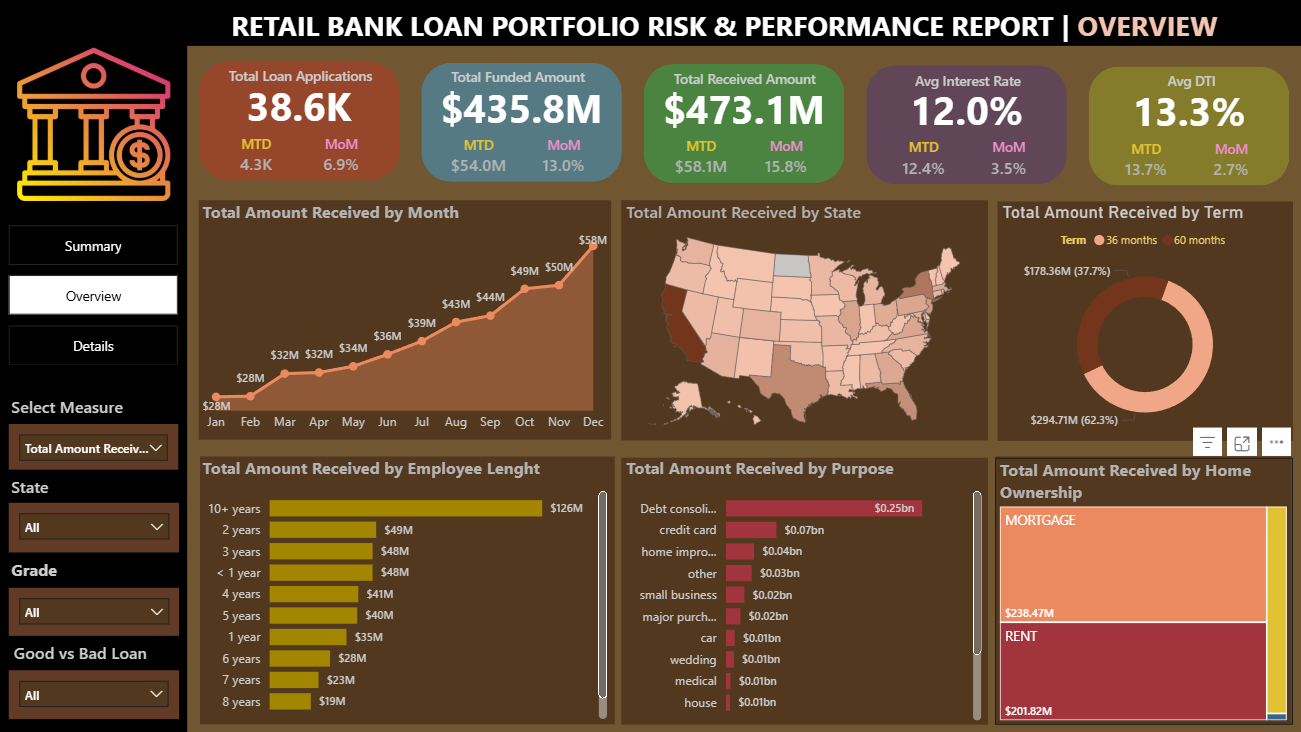

What the dashboard file says about the page in this screenshot:
{"tool":"powerbi","page":{"name":"Overview","canvas":[1280,720],"ordinal":1},"visuals":[{"type":"shape","box":[195.1,61.4,197,117],"z":0,"group":"g1"},{"type":"shape","box":[413.5,62.6,197,117],"z":0,"group":"g2"},{"type":"shape","box":[631.9,63.8,197,117],"z":0,"group":"g3"},{"type":"shape","box":[850.3,65,197,117],"z":0,"group":"g4"},{"type":"shape","box":[1068.7,66.2,197,117],"z":0,"group":"g5"},{"type":"shape","box":[978.6,198.6,290,235],"z":0},{"type":"card","fields":{"Values":["financial_loan.Total Loan Applications"]},"box":[195.1,81,197.5,47.9],"z":1000,"group":"g1"},{"type":"card","fields":{"Values":["Date Table.Total Funded Amount"]},"box":[413.5,82.2,197.5,47.9],"z":1000,"group":"g2"},{"type":"card","fields":{"Values":["Date Table.Total Amount Received"]},"box":[631.9,83.4,197.5,47.9],"z":1000,"group":"g3"},{"type":"card","fields":{"Values":["financial_loan.Avg Interest Rate"]},"box":[850.3,84.6,197.5,47.9],"z":1000,"group":"g4"},{"type":"card","fields":{"Values":["Date Table.Avg DTI"]},"box":[1068.7,85.8,197.5,47.9],"z":1000,"group":"g5"},{"type":"shape","box":[195.1,197.5,405,235],"z":1000},{"type":"shape","box":[0,0,1279.8,46],"z":2000},{"type":"textbox","box":[219.6,61.4,193.9,39.3],"z":2000,"group":"g1"},{"type":"textbox","box":[438,62.6,193.9,39.3],"z":2000,"group":"g2"},{"type":"textbox","box":[656.4,63.8,193.9,39.3],"z":2000,"group":"g3"},{"type":"textbox","box":[1141.4,65.9,138.7,31.9],"z":2000,"group":"g5"},{"type":"textbox","box":[892.9,66.2,193.9,39.3],"z":2000,"group":"g4"},{"type":"shape","box":[0,45,183.8,675],"z":3000},{"type":"card","title":"MTD","fields":{"Values":["financial_loan.MTD Loan Applications"]},"box":[209.8,132.6,83.4,45.4],"z":3000,"group":"g1"},{"type":"card","title":"MTD","fields":{"Values":["Date Table.MTD Funded Amount"]},"box":[428.2,133.8,83.4,45.4],"z":3000,"group":"g2"},{"type":"card","title":"MTD","fields":{"Values":["financial_loan.MTD Total Amount Recieved"]},"box":[646.6,135,83.4,45.4],"z":3000,"group":"g3"},{"type":"card","title":"MTD","fields":{"Values":["Date Table.MTD Avg Int Rate"]},"box":[865,136.2,83.4,45.4],"z":3000,"group":"g4"},{"type":"card","title":"MTD","fields":{"Values":["Date Table.MTD Avg DTI"]},"box":[1083.4,137.4,83.4,45.4],"z":3000,"group":"g5"},{"type":"textbox","box":[222.1,2.5,989,45.4],"z":4000},{"type":"card","title":"MoM","fields":{"Values":["Date Table.MoM Loan Applications"]},"box":[293.3,132.6,83.4,45.4],"z":4000,"group":"g1"},{"type":"card","title":"MoM","fields":{"Values":["Date Table.MoM Total Funded Amount"]},"box":[511.7,133.8,83.4,45.4],"z":4000,"group":"g2"},{"type":"card","title":"MoM","fields":{"Values":["Date Table.MoM Total Recieved Amount"]},"box":[730.1,135,83.4,45.4],"z":4000,"group":"g3"},{"type":"card","title":"MoM","fields":{"Values":["Date Table.MoM Avg Int Rate"]},"box":[948.5,136.2,83.4,45.4],"z":4000,"group":"g4"},{"type":"card","title":"MoM","fields":{"Values":["Date Table.MoM Avg DTI"]},"box":[1166.9,137.4,83.4,45.4],"z":4000,"group":"g5"},{"type":"group","id":"g1","title":"Group 1","box":[195.1,61.4,218.4,116.6],"z":5000},{"type":"group","id":"g2","title":"Group 1","box":[413.5,62.6,218.4,116.6],"z":6000},{"type":"group","id":"g3","title":"Group 1","box":[631.9,63.8,218.4,116.6],"z":7000},{"type":"group","id":"g4","title":"Group 1","box":[850.3,65,236.4,117],"z":8000},{"type":"group","id":"g5","title":"Group 1","box":[1068.7,65.9,211.4,117.3],"z":9000},{"type":"shape","box":[610,197.1,360,235.7],"z":10000},{"type":"slicer","fields":{"Values":["financial_loan.address_state"]},"box":[8.8,495,167.5,48.8],"z":11000},{"type":"textbox","box":[6.2,462.5,72.5,32.5],"z":12000},{"type":"slicer","fields":{"Values":["financial_loan.grade"]},"box":[8.8,577.5,167.5,47.5],"z":13000},{"type":"textbox","box":[6.2,543.8,63.8,33.8],"z":14000},{"type":"slicer","fields":{"Values":["financial_loan.Good vs Bad Loan"]},"box":[8.6,658.9,166.9,47.9],"z":15000},{"type":"textbox","box":[8.6,625.8,165.6,33.1],"z":16000},{"type":"areaChart","fields":{"Y":["Date Table.Total Amount Received"],"Category":["Date Table.Month"]},"box":[194.3,197.1,407.1,235.7],"z":17000},{"type":"slicer","fields":{"Values":["Select Measure.Select Measure"]},"box":[8.8,417.5,166.2,45],"z":18000},{"type":"textbox","box":[6.2,383.8,150,33.8],"z":19000},{"type":"shapeMap","fields":{"Value":["Date Table.Total Amount Received"],"Category":["financial_loan.address_state"]},"box":[610,197.1,360,235.7],"z":20000},{"type":"donutChart","fields":{"Y":["Date Table.Total Amount Received"],"Category":["financial_loan.term"]},"box":[978.6,198.6,290,234.3],"z":21000},{"type":"shape","box":[195.7,448.6,407.1,262.9],"z":22000},{"type":"barChart","fields":{"Y":["Date Table.Total Amount Received"],"Category":["financial_loan.emp_length"]},"box":[194.3,448.6,407.1,262.9],"z":23000},{"type":"shape","box":[610,450,360,262],"z":24000},{"type":"barChart","fields":{"Y":["Date Table.Total Amount Received"],"Category":["financial_loan.purpose"]},"box":[610,448.6,358.6,264.3],"z":25000},{"type":"shape","box":[977.1,448.6,291.4,262.9],"z":26000},{"type":"treemap","fields":{"Values":["Date Table.Total Amount Received"],"Group":["financial_loan.home_ownership"]},"box":[977.1,450,291.4,262.9],"z":27000},{"type":"pageNavigator","box":[8.8,222.5,166.2,137.5],"z":28000},{"type":"image","box":[0,47.5,183.8,150],"z":29000}]}

Visuals, with their boxes in screenshot pixels (x1, y1, x2, y2), scaled from the page's 1280x720 canvas onto the 1301x732 screenshot:
shape: (198, 62, 399, 181)
shape: (420, 64, 621, 183)
shape: (642, 65, 842, 184)
shape: (864, 66, 1064, 185)
shape: (1086, 67, 1286, 186)
shape: (995, 202, 1289, 441)
card - financial_loan.Total Loan Applications: (198, 82, 399, 131)
card - Date Table.Total Funded Amount: (420, 84, 621, 132)
card - Date Table.Total Amount Received: (642, 85, 843, 133)
card - financial_loan.Avg Interest Rate: (864, 86, 1065, 135)
card - Date Table.Avg DTI: (1086, 87, 1287, 136)
shape: (198, 201, 610, 440)
shape: (0, 0, 1300, 47)
textbox: (223, 62, 420, 102)
textbox: (445, 64, 642, 104)
textbox: (667, 65, 864, 105)
textbox: (1160, 67, 1300, 99)
textbox: (908, 67, 1105, 107)
shape: (0, 46, 187, 731)
"MTD" card: (213, 135, 298, 181)
"MTD" card: (435, 136, 520, 182)
"MTD" card: (657, 137, 742, 183)
"MTD" card: (879, 138, 964, 185)
"MTD" card: (1101, 140, 1186, 186)
textbox: (226, 3, 1231, 49)
"MoM" card: (298, 135, 383, 181)
"MoM" card: (520, 136, 605, 182)
"MoM" card: (742, 137, 827, 183)
"MoM" card: (964, 138, 1049, 185)
"MoM" card: (1186, 140, 1271, 186)
"Group 1" group: (198, 62, 420, 181)
"Group 1" group: (420, 64, 642, 182)
"Group 1" group: (642, 65, 864, 183)
"Group 1" group: (864, 66, 1105, 185)
"Group 1" group: (1086, 67, 1300, 186)
shape: (620, 200, 986, 440)
slicer - financial_loan.address_state: (9, 503, 179, 553)
textbox: (6, 470, 80, 503)
slicer - financial_loan.grade: (9, 587, 179, 635)
textbox: (6, 553, 71, 587)
slicer - financial_loan.Good vs Bad Loan: (9, 670, 178, 719)
textbox: (9, 636, 177, 670)
areaChart - Date Table.Total Amount Received x Date Table.Month: (197, 200, 611, 440)
slicer - Select Measure.Select Measure: (9, 424, 178, 470)
textbox: (6, 390, 159, 425)
shapeMap - Date Table.Total Amount Received x financial_loan.address_state: (620, 200, 986, 440)
donutChart - Date Table.Total Amount Received x financial_loan.term: (995, 202, 1289, 440)
shape: (199, 456, 613, 723)
barChart - Date Table.Total Amount Received x financial_loan.emp_length: (197, 456, 611, 723)
shape: (620, 458, 986, 724)
barChart - Date Table.Total Amount Received x financial_loan.purpose: (620, 456, 984, 725)
shape: (993, 456, 1289, 723)
treemap - Date Table.Total Amount Received x financial_loan.home_ownership: (993, 458, 1289, 725)
pageNavigator: (9, 226, 178, 366)
image: (0, 48, 187, 201)
